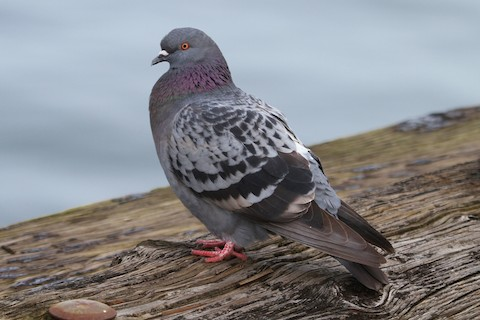pigeon: (146, 24, 401, 298)
